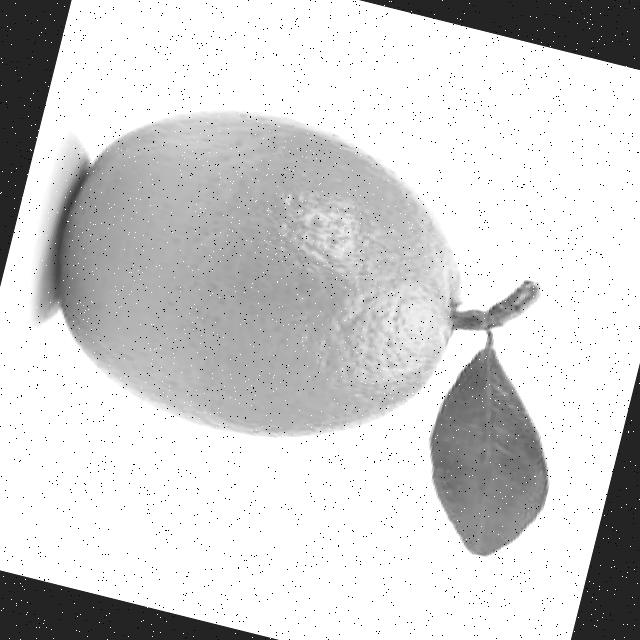orange: (19, 69, 494, 482)
